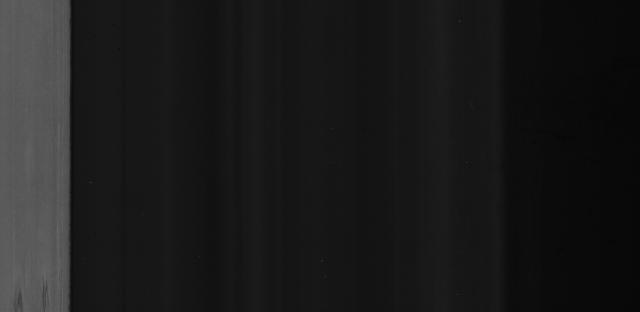silk_spot: (2, 266, 66, 312)
